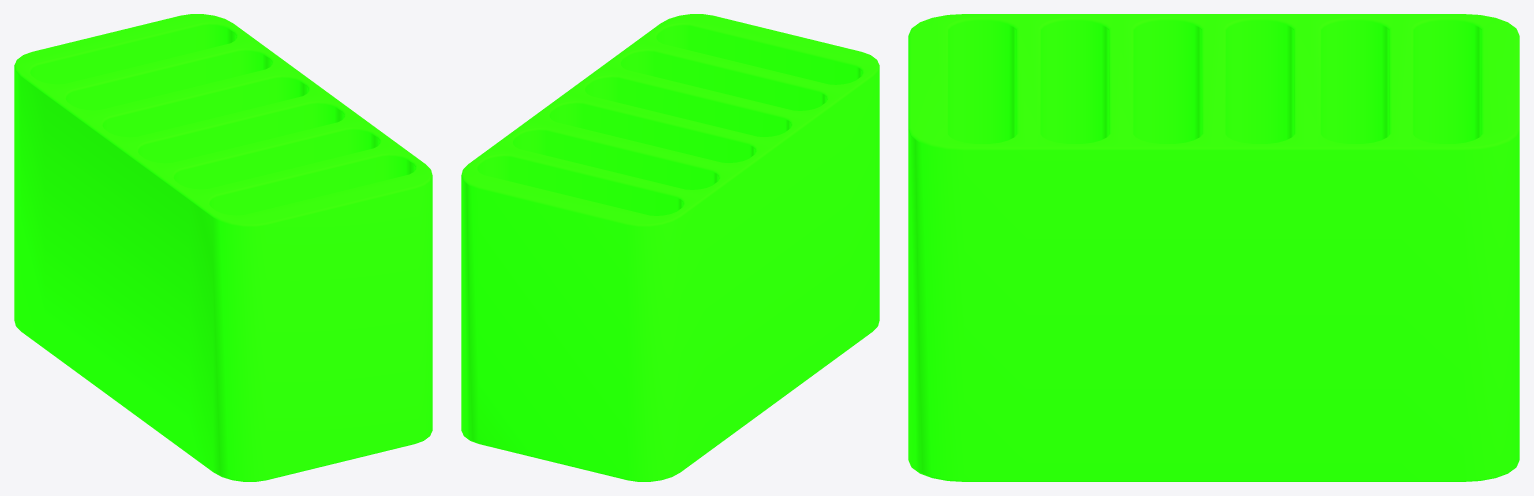
The picture shows the model from 3 angles, left to right: view 1: azimuth 30°, elevation 25°; view 2: azimuth 150°, elevation 25°; view 3: azimuth 270°, elevation 25°; orthographic projection. The views are drawn at different scales.
Parts seen in each view (by area): view 1: Box.009; view 2: Box.009; view 3: Box.009.
Part boxes in pixels (x1,y1,x2,y2): Box.009: (14, 14, 432, 481); Box.009: (461, 14, 879, 481); Box.009: (908, 14, 1519, 481).
Size of the model in its own units: 208 by 109 by 126.
